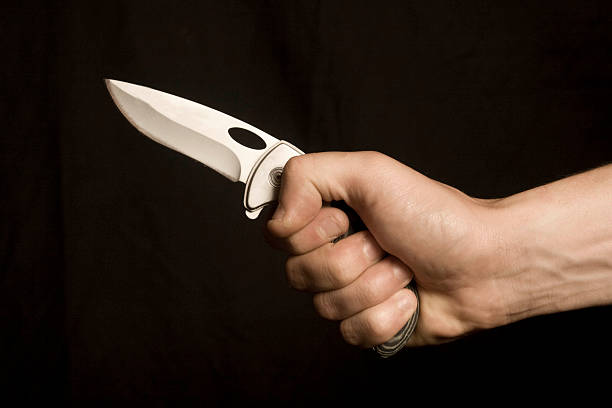knife: (101, 75, 285, 186)
